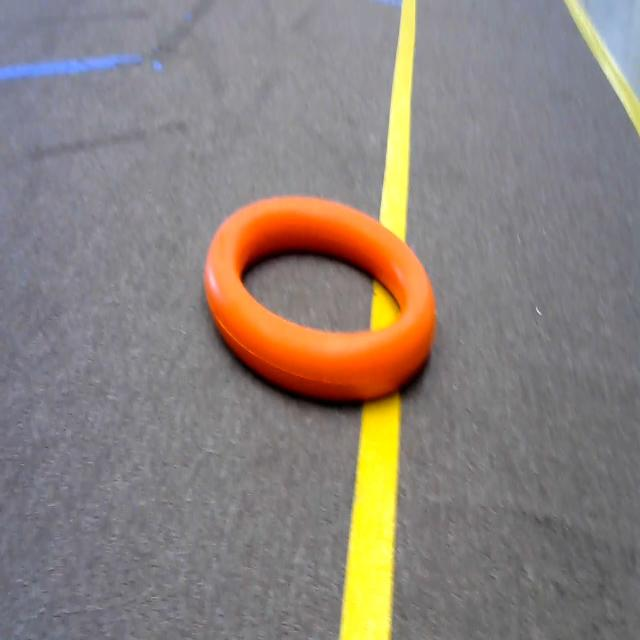note: (194, 178, 450, 436)
